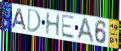6: (94, 20, 108, 45)
A: (76, 17, 96, 44), (11, 8, 28, 32)
D: (26, 8, 42, 33)
E: (60, 14, 75, 40)
H: (45, 12, 61, 38)
